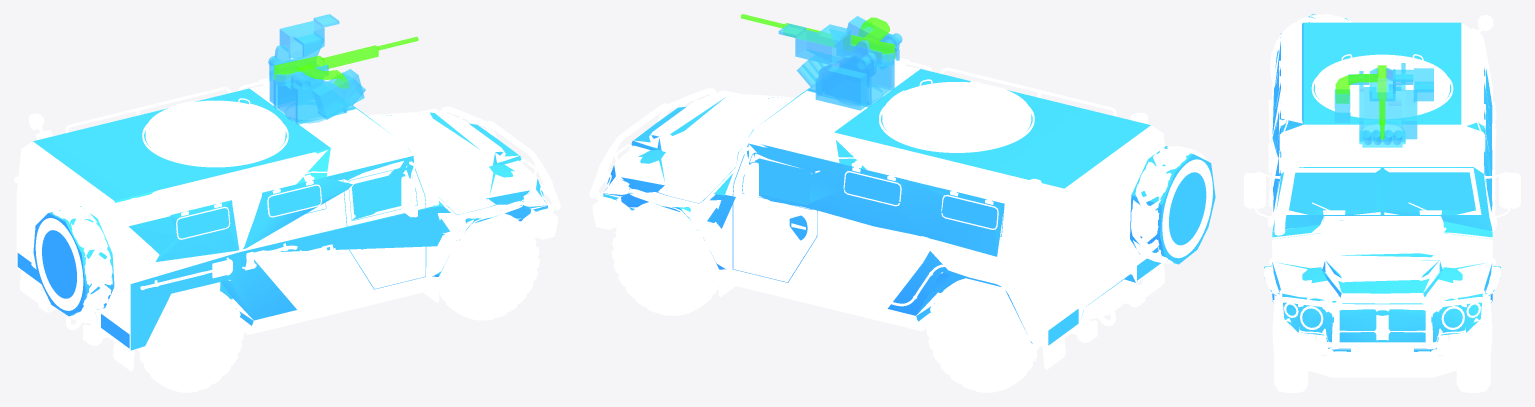
The model's file is Tigr.gltf.
The picture shows the model from 3 angles, left to right: view 1: azimuth 30°, elevation 25°; view 2: azimuth 150°, elevation 25°; view 3: azimuth 270°, elevation 25°; orthographic projection. The views are drawn at different scales.
Parts seen in each view (by area): view 1: 7, Tigr_col, 7_3, Arbalet_rws_turret_col_116, Tigr_col_1, Arbalet_Kord_col_1, Arbalet_Kord_col, 7_2; view 2: 7, Tigr_col, 7_3, Arbalet_rws_turret_col_116, Tigr_col_1, Arbalet_Kord_col_1, Arbalet_Kord_col, 7_2; view 3: 7, Tigr_col, 7_3, Tigr_col_1, Arbalet_rws_turret_col_116, Arbalet_Kord_col_1, Arbalet_Kord_col.
Part boxes in pixels (left/top/right/bottom): 7: left=14, top=78, right=560, bottom=370; Tigr_col: left=17, top=88, right=547, bottom=350; 7_3: left=35, top=201, right=557, bottom=392; Arbalet_rws_turret_col_116: left=268, top=45, right=365, bottom=124; Tigr_col_1: left=177, top=172, right=405, bottom=238; Arbalet_Kord_col_1: left=269, top=14, right=339, bottom=85; Arbalet_Kord_col: left=274, top=36, right=418, bottom=88; 7_2: left=40, top=176, right=102, bottom=228; 7: left=589, top=48, right=1165, bottom=369; Tigr_col: left=603, top=69, right=1215, bottom=345; 7_3: left=592, top=146, right=1212, bottom=392; Arbalet_rws_turret_col_116: left=796, top=16, right=902, bottom=110; Tigr_col_1: left=754, top=158, right=997, bottom=228; Arbalet_Kord_col_1: left=778, top=23, right=899, bottom=66; Arbalet_Kord_col: left=741, top=14, right=894, bottom=58; 7_2: left=1077, top=162, right=1142, bottom=227; 7: left=1244, top=15, right=1520, bottom=369; Tigr_col: left=1264, top=14, right=1500, bottom=351; 7_3: left=1270, top=14, right=1492, bottom=392; Tigr_col_1: left=1273, top=69, right=1491, bottom=211; Arbalet_rws_turret_col_116: left=1334, top=63, right=1417, bottom=147; Arbalet_Kord_col_1: left=1369, top=67, right=1433, bottom=102; Arbalet_Kord_col: left=1335, top=65, right=1386, bottom=139.
Size of the model in its own units: 5.78 by 2.93 by 2.83.
